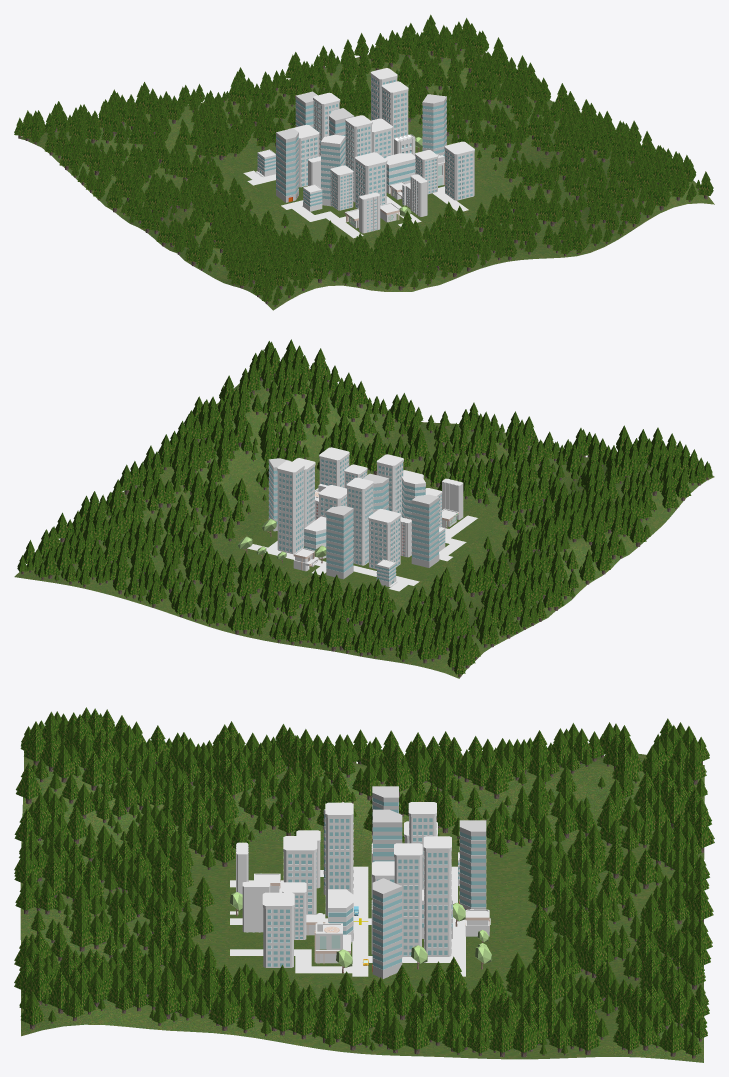
File: threejs-city-v2.glb
3 views of the same model, one above another, from view 1: azimuth 30°, elevation 25°; view 2: azimuth 150°, elevation 25°; view 3: azimuth 270°, elevation 25° (orthographic). The views are drawn at different scales.
Parts seen in each view (by area): view 1: Plane.008, Plane.007, Building 100.006, Building 86.007, Building 86.005, Building 100.002, Building 92.004, Building 92.002, Building 86.006, Building 100.005, Building 100.003, Building 82.002 (+10 smaller); view 2: Plane.008, Plane.007, Building 92.005, Building 86.007, Building 86.004, Building 92.003, Building 100.003, Building 92.002, Building 100.006, Building 92.004, Building 86.006, Building 97.005 (+4 smaller); view 3: Plane.008, Plane.007, Building 92.005, Building 86.005, Building 92.002, Building 92.004, Building 86.004, Building 100.006, Building 100.002, Building 86.003, hospital.001, Building 97.004 (+10 smaller).
Boxes of the visible parts, box(x1,y1,x2,y2) form: Plane.008: box(20, 42, 714, 310); Plane.007: box(235, 146, 492, 242); Building 100.006: box(444, 141, 474, 200); Building 86.007: box(276, 128, 298, 202); Building 86.005: box(422, 94, 446, 158); Building 100.002: box(355, 152, 387, 208); Building 92.004: box(381, 81, 408, 154); Building 92.002: box(345, 115, 372, 202); Building 86.006: box(321, 134, 345, 206); Building 100.005: box(330, 165, 353, 210); Building 100.003: box(288, 124, 319, 187); Building 82.002: box(385, 153, 415, 193); Plane.008: box(14, 376, 714, 678); Plane.007: box(232, 514, 498, 594); Building 92.005: box(277, 461, 304, 554); Building 86.007: box(411, 494, 439, 567); Building 86.004: box(326, 505, 353, 579); Building 92.003: box(346, 477, 373, 565); Building 100.003: box(368, 509, 400, 569); Building 92.002: box(376, 454, 403, 517); Building 100.006: box(319, 447, 349, 487); Building 92.004: box(292, 458, 315, 541); Building 86.006: box(401, 475, 425, 519); Building 97.005: box(442, 478, 463, 519); Plane.008: box(20, 750, 704, 1062); Plane.007: box(230, 866, 490, 976); Building 92.005: box(423, 836, 451, 956); Building 86.005: box(372, 878, 402, 978); Building 92.002: box(325, 802, 353, 916); Building 92.004: box(394, 843, 422, 956); Building 86.004: box(459, 820, 486, 910); Building 100.006: box(262, 892, 294, 967); Building 100.002: box(283, 836, 317, 913); Building 86.003: box(373, 809, 402, 861); hospital.001: box(314, 913, 351, 963); Building 97.004: box(242, 881, 270, 932).
Bounding box in the file's own units: 540 × 98.37 × 538.
52 materials, 3 textured.
